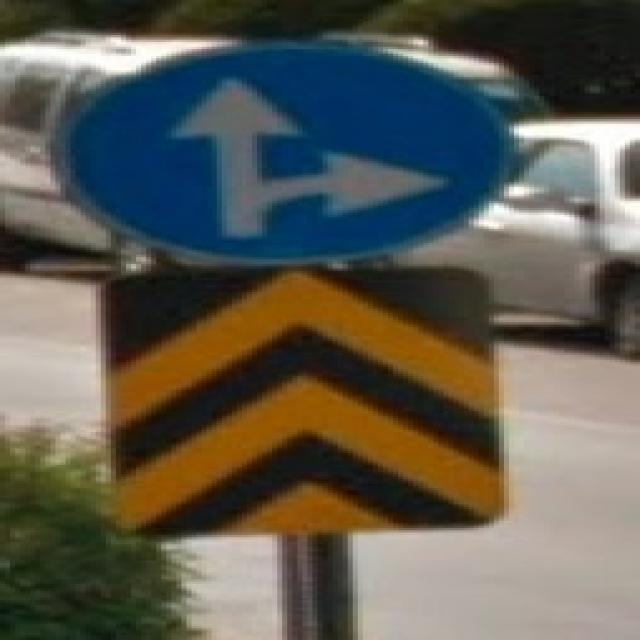Straight or Right: (46, 47, 515, 262)
